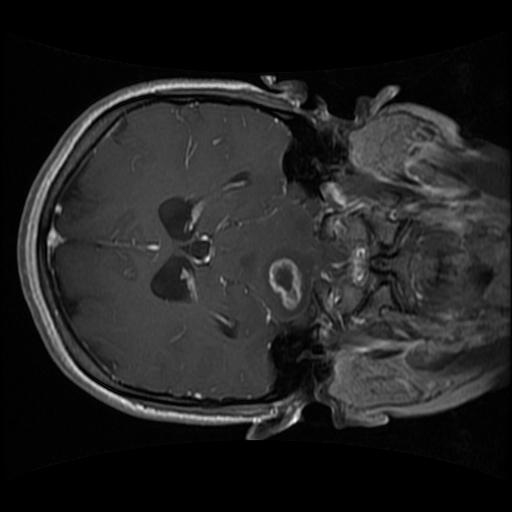glioma: (263, 248, 310, 318)
